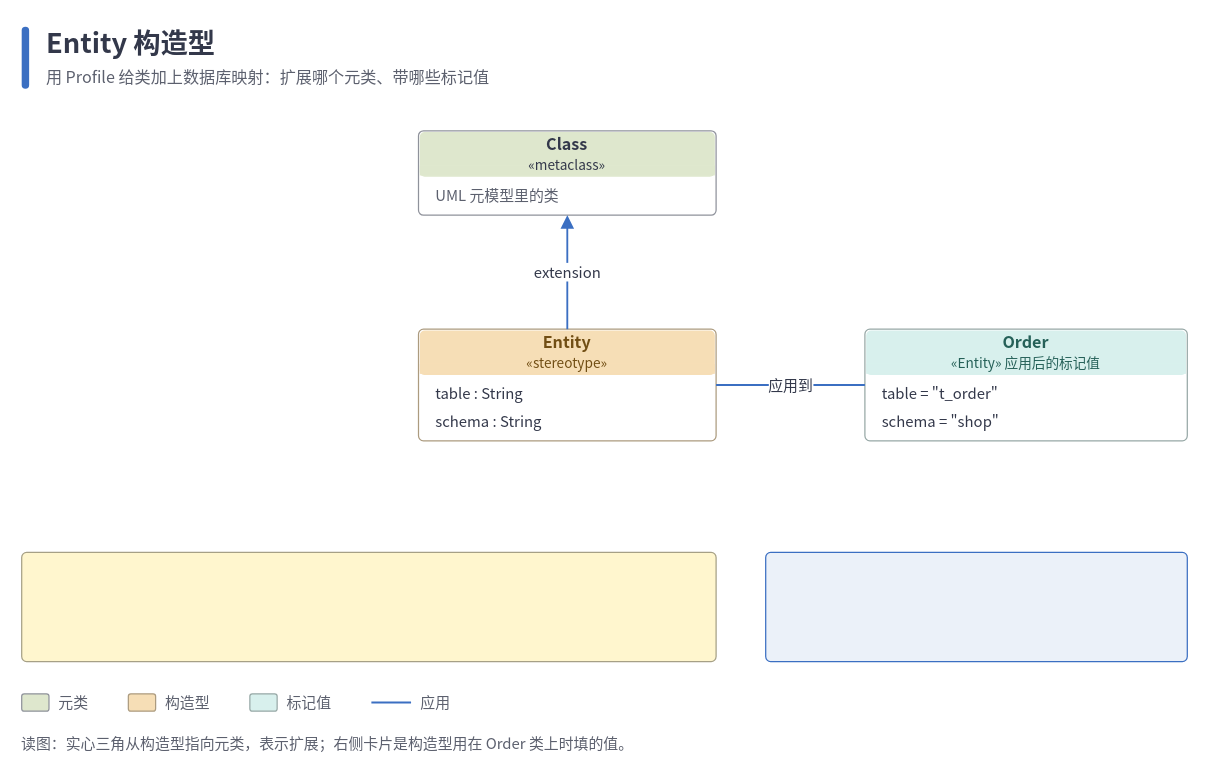
Image size: 1209x776. Some labels were removed from this diagram. The centre of each missing label's shape, as x and y in pixels:
不在这张图里 Profile 的包和导入关系: (975,606)
说明 构造型 Entity 扩展元类 Class，给类增加 table、schema 两个属性 标记值是构造型应用到具体类之后填的值: (368,606)
